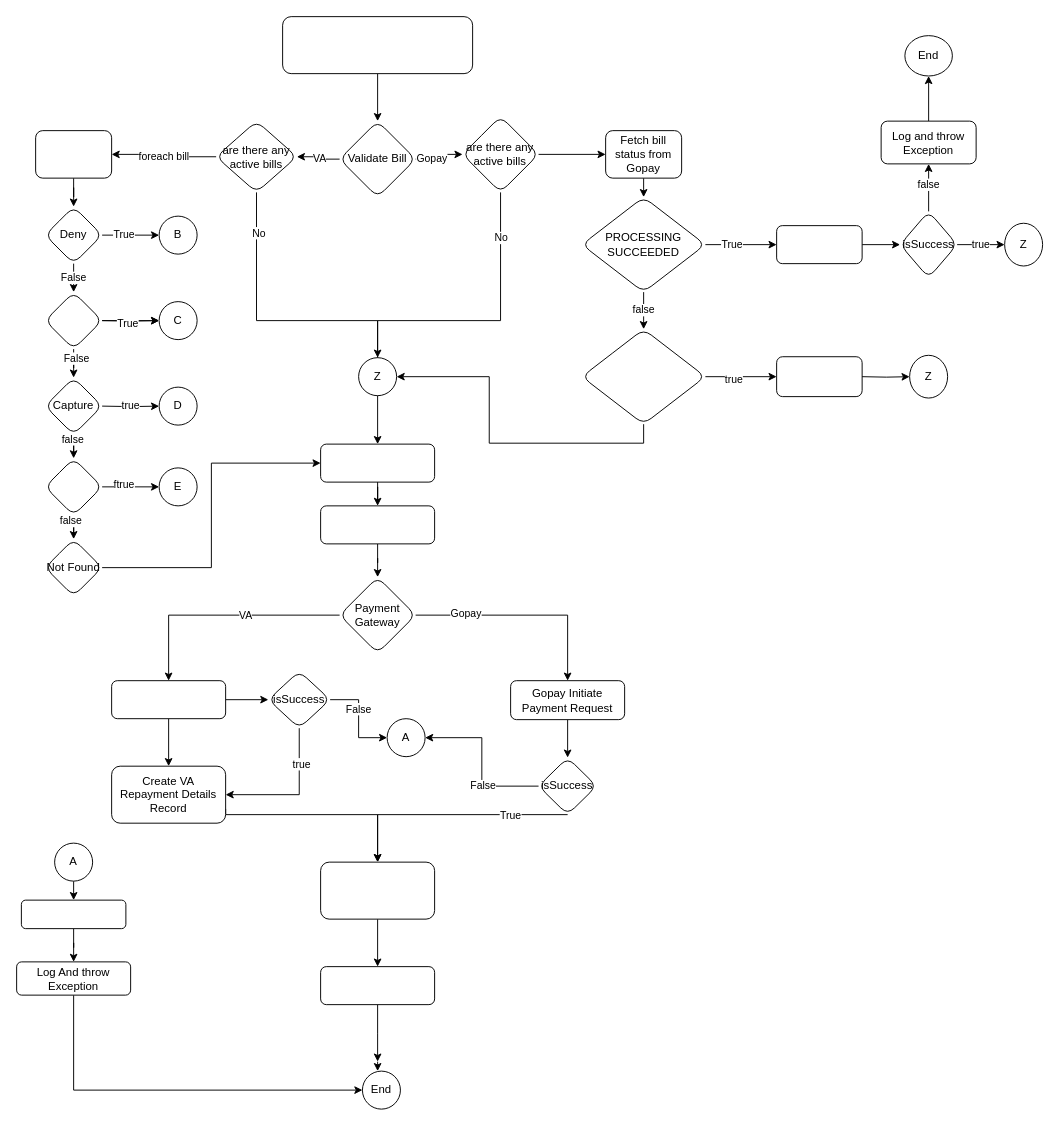
Some shapes in this 1059 by 1126 pixel diagram are drawn without their labels. The centre of each missing label's shape, as x and y in pixels:
"Cancel Bill Cancel at Gopay" belongs at (x=819, y=376).
"Cancel the Bill" belongs at (x=73, y=914).
"Create Bill Record" belongs at (x=377, y=524).
"Create VA /Charge request" belongs at (x=168, y=699).
"CREATED AUTHORISED" belongs at (x=643, y=376).
"Expire" belongs at (x=73, y=486).
"Fetch bill status from Midtrans" belongs at (x=73, y=154).
"Find Payables" belongs at (x=377, y=462).
"InitiateV2 accountId paymentType (Current, Early) PaymentGateway" belongs at (x=377, y=45).
"Pending" belongs at (x=73, y=320).
"Return success" belongs at (x=377, y=985).
"Settle Bill" belongs at (x=819, y=244).
"Update the ReferenceId in Bills Table" belongs at (x=377, y=890).
